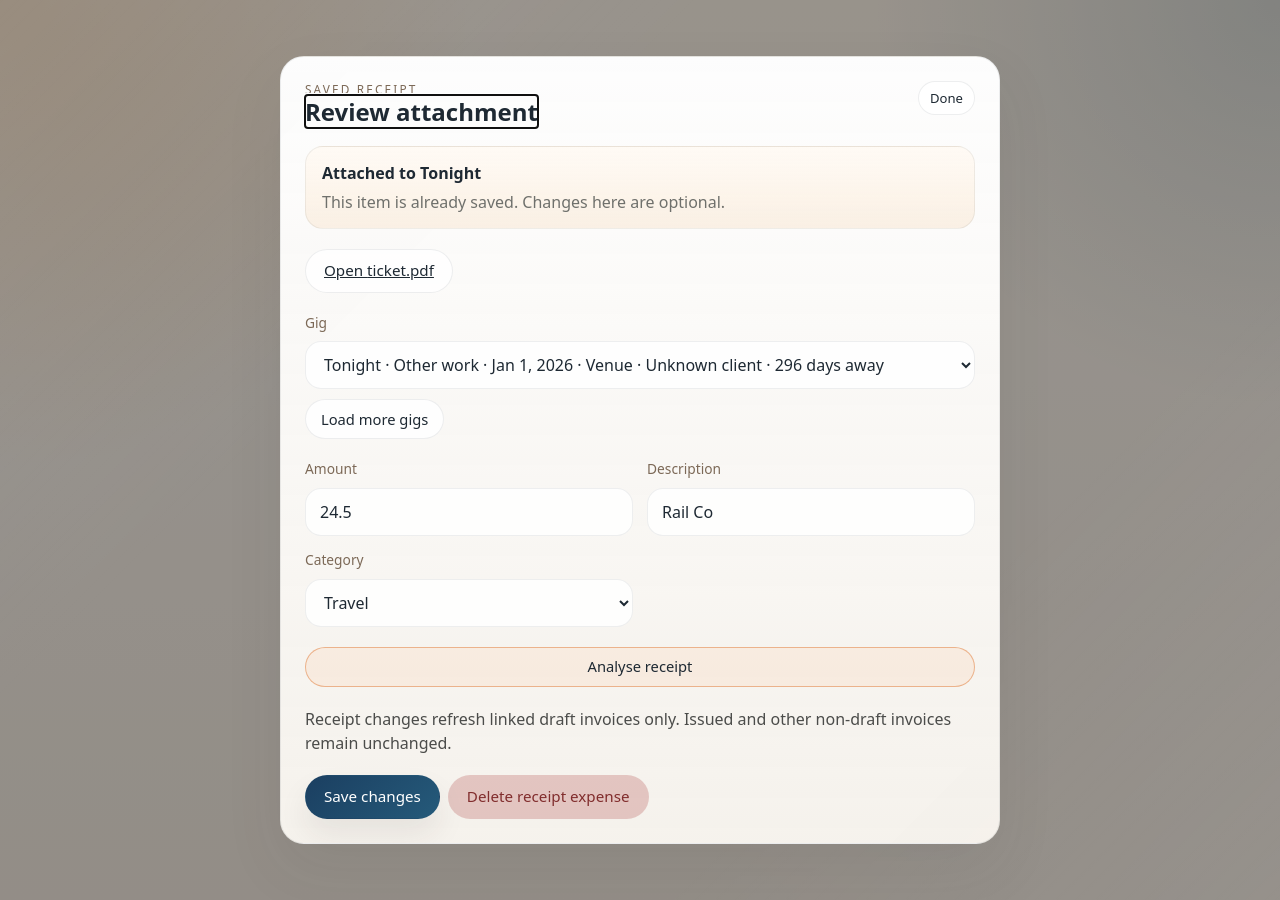
Test: Saved attachment review › saves corrections to the original expense without resubmitting intake
Replace the text in the field labelled "Description" with "Return train ticket" at (811, 512), box [647,488,975,536]
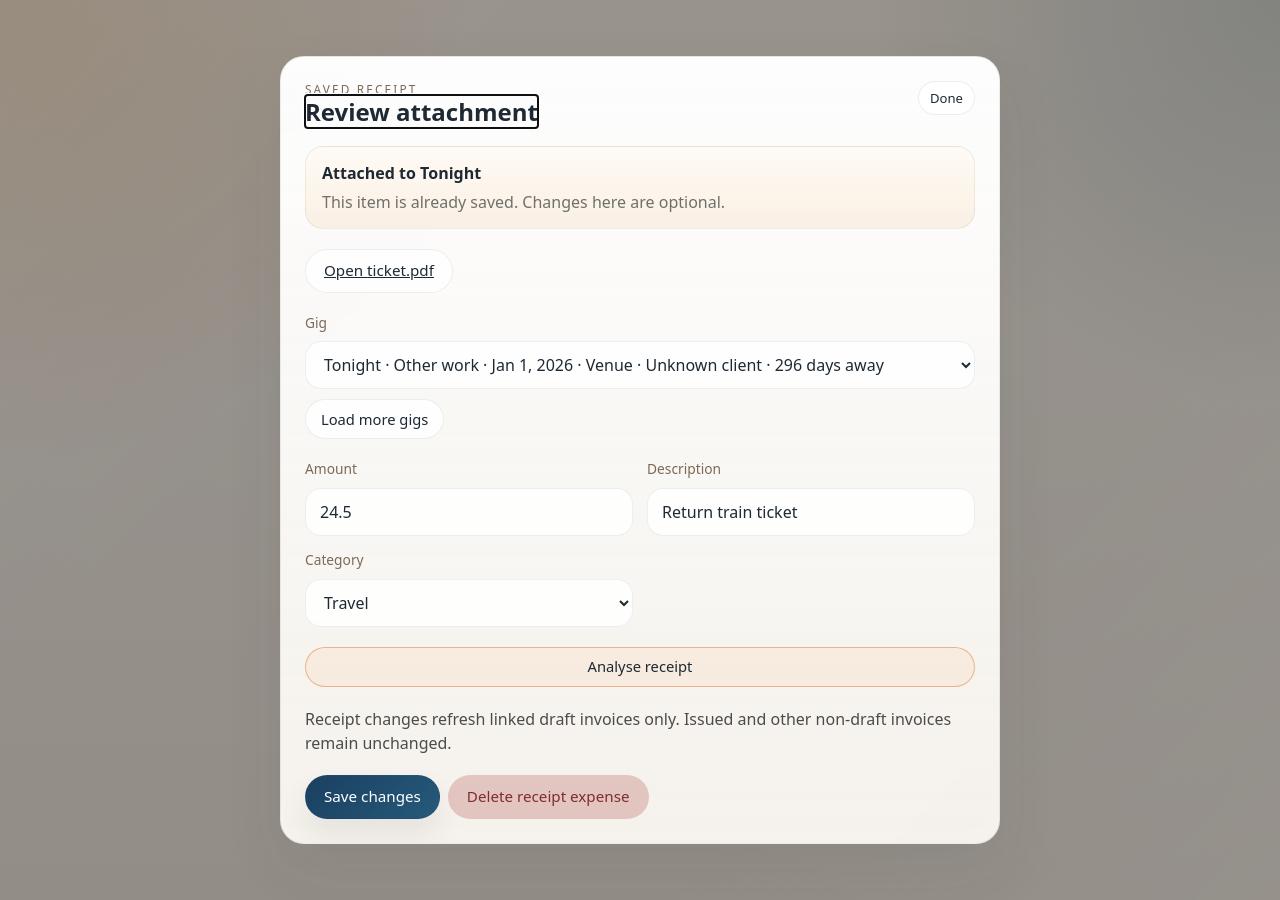
Click the button "Save changes" at (372, 797), box [305,775,440,819]
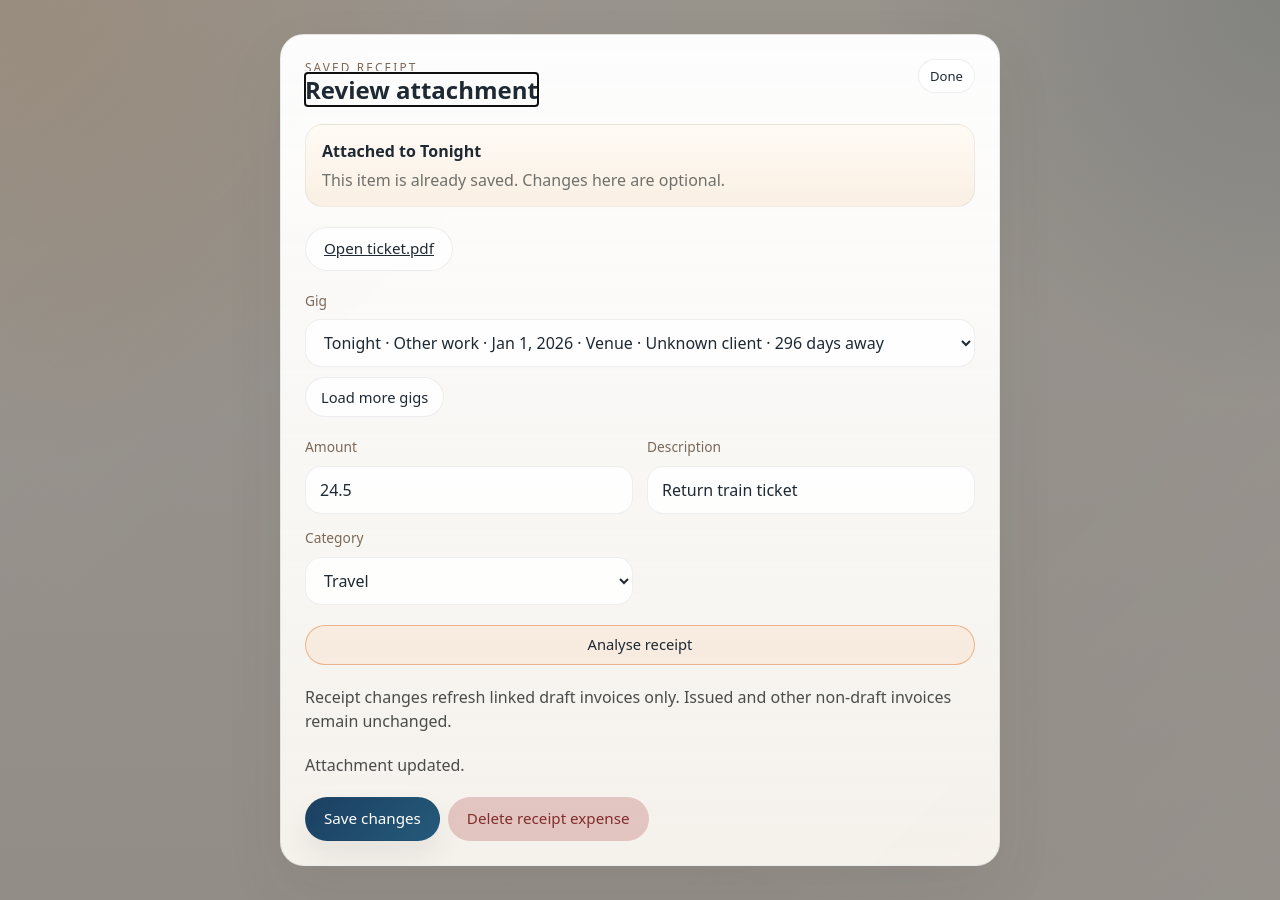
Check: the text "Attachment updated." is shown, box [305,754,465,776]
